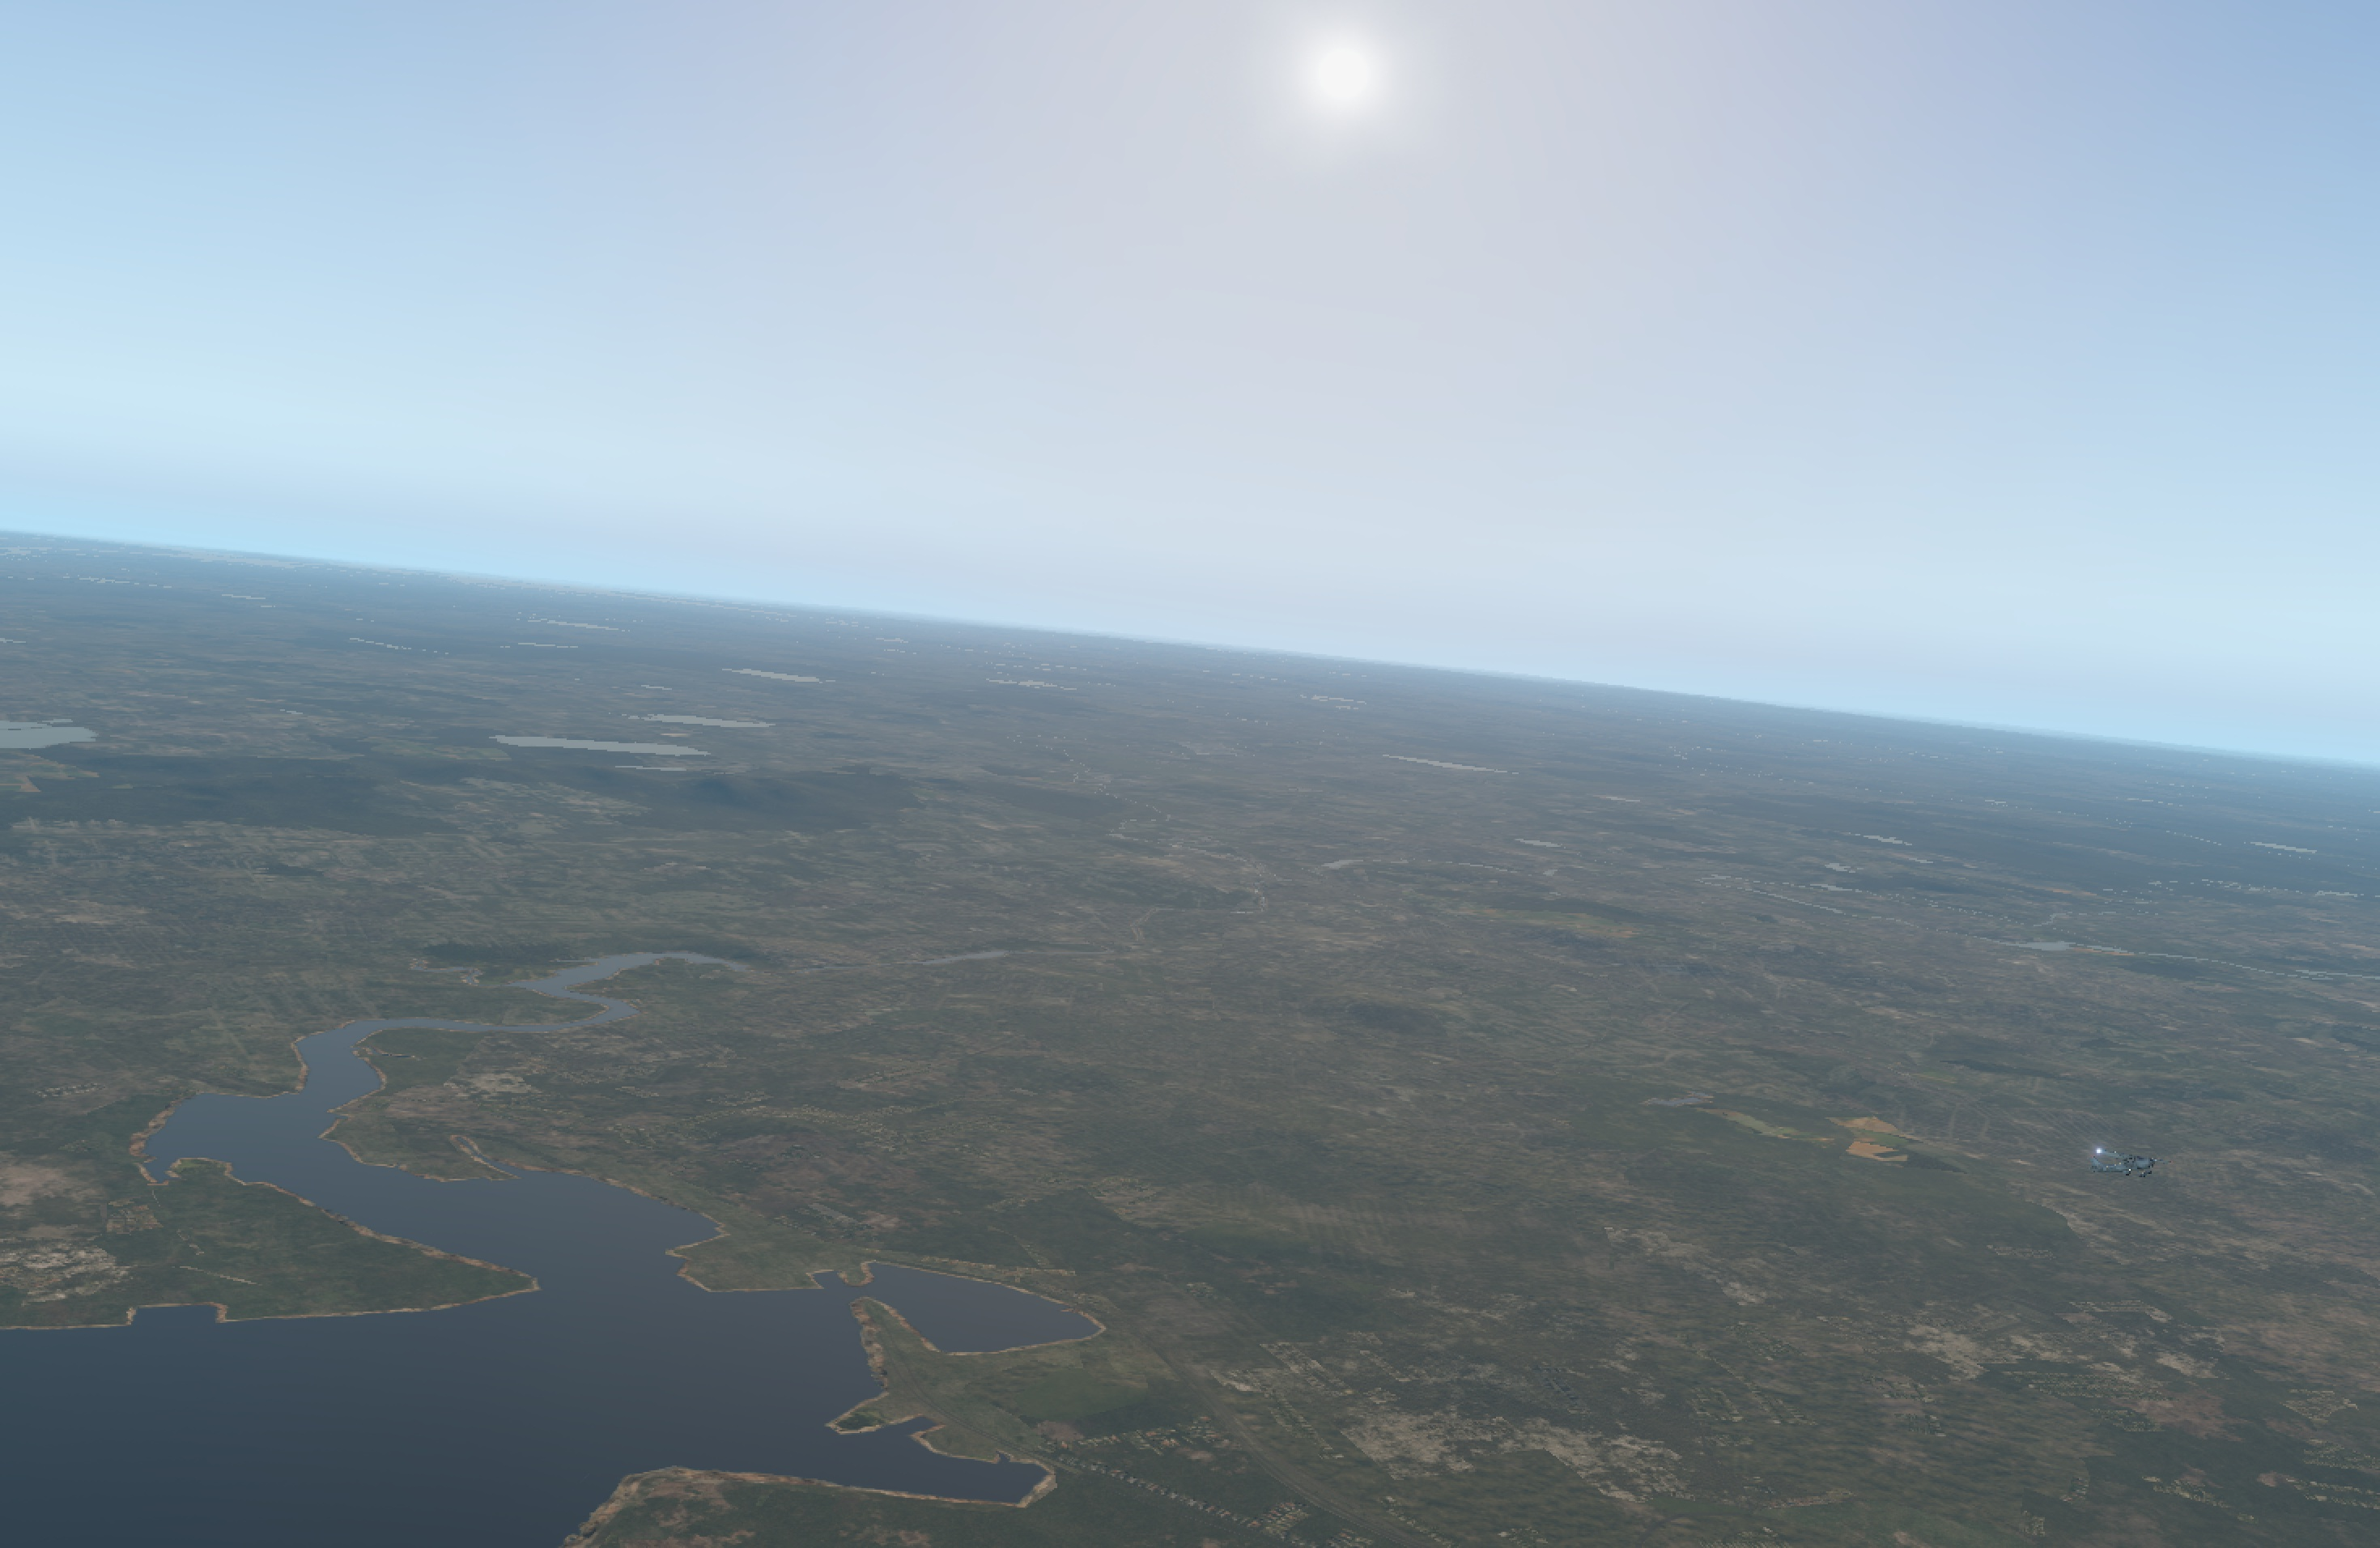aircraft: (2102, 1151, 2170, 1175)
